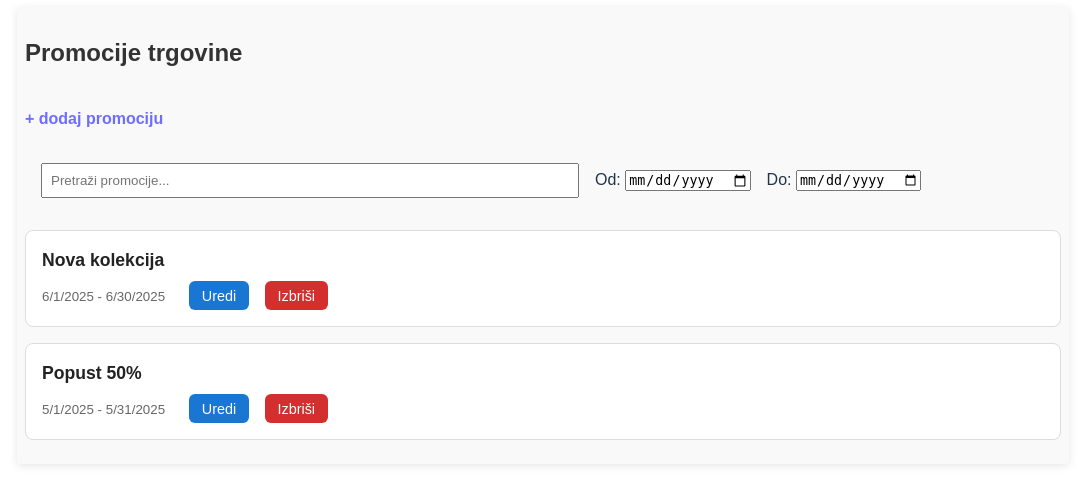
Test: brisanje promocije uklanja je iz liste
Check: the text "Popust 50%" is shown, box x1=42 y1=363 x2=142 y2=383
What coordinates should you click on to do the following:
click the button with test id "delete-1"
I would click on:
 (296, 409)
Its box is x1=265 y1=394 x2=328 y2=423.
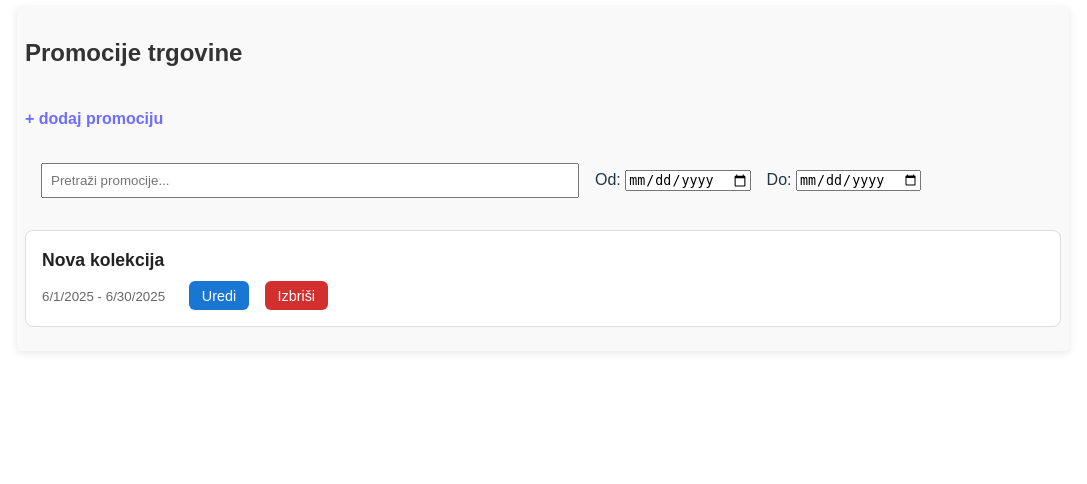
Check: the text "Nova kolekcija" is shown, box x1=42 y1=250 x2=164 y2=270
Check: the text "Popust 50%" is gone
